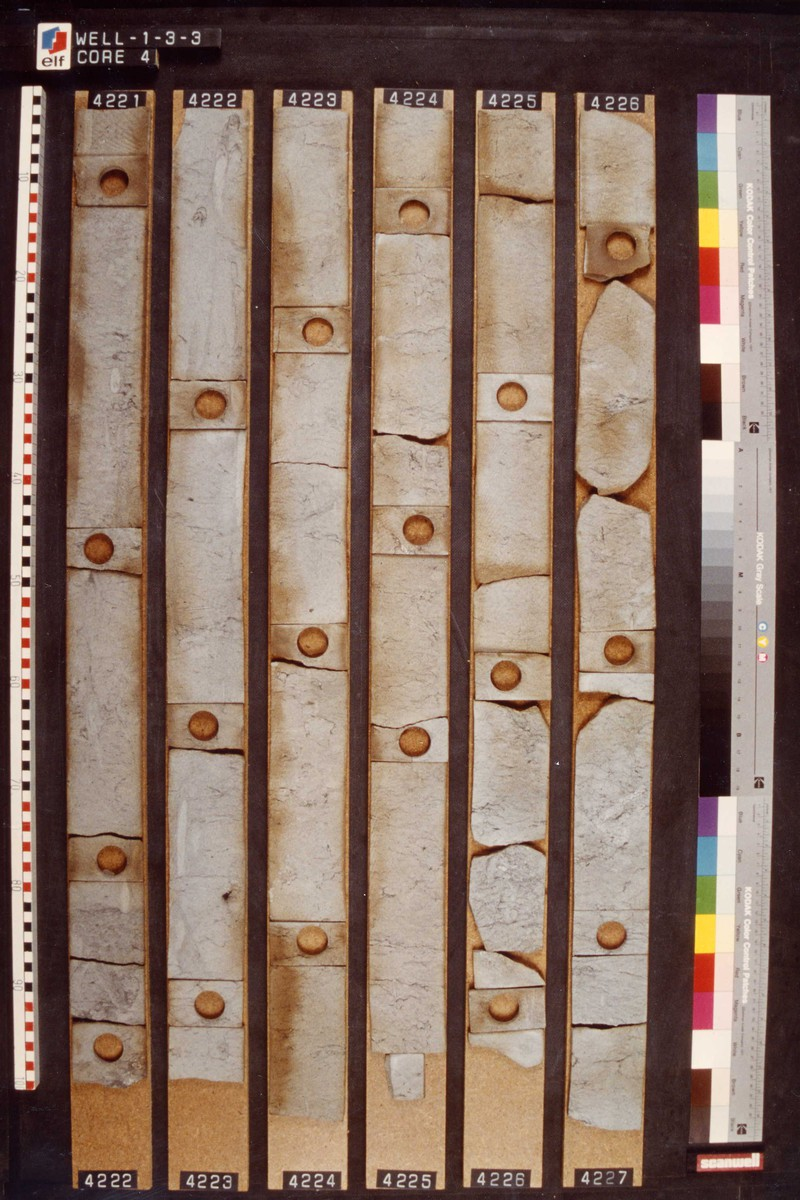core: (571, 111, 654, 1138), (167, 111, 254, 1088), (468, 110, 555, 1069), (268, 108, 350, 1125), (370, 106, 451, 1103), (71, 109, 149, 1090)
